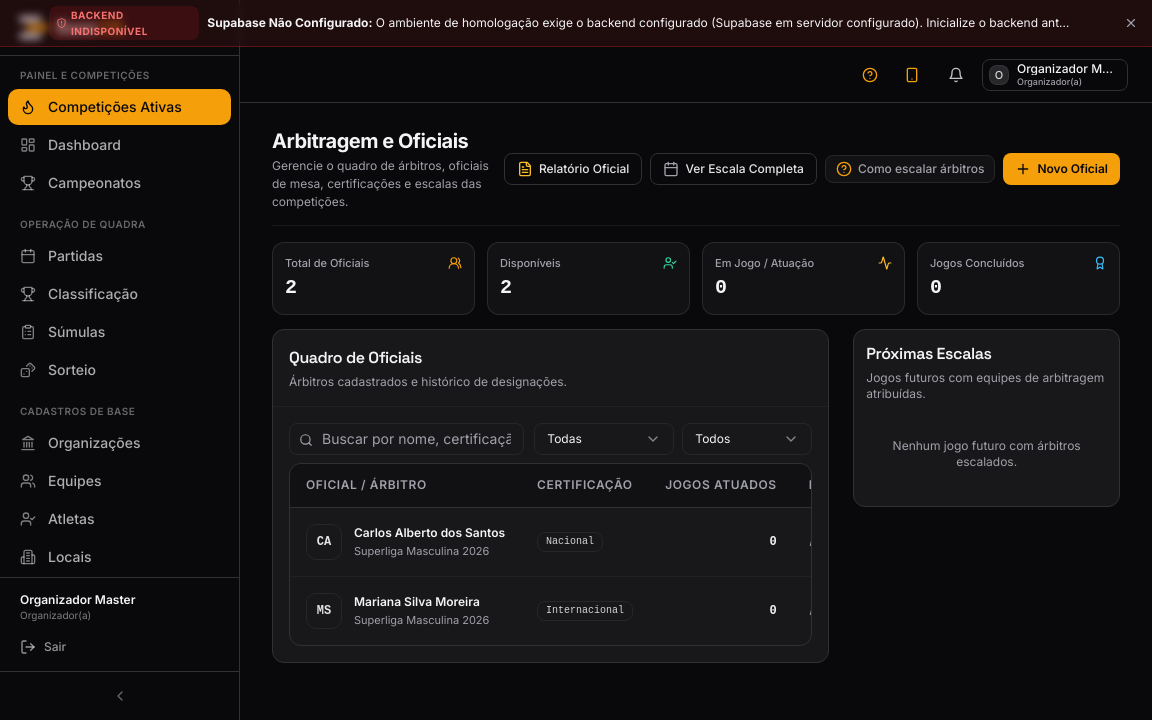
Test case: RefereesPage Component (Fase 8.2) › abre o modal de escala completa ao clicar em Ver Escala Completa
Expected: the text "Carlos Alberto dos Santos" is shown, [354, 525, 505, 541]
Click the button "Ver Escala Completa": (734, 169) [650, 153, 817, 185]
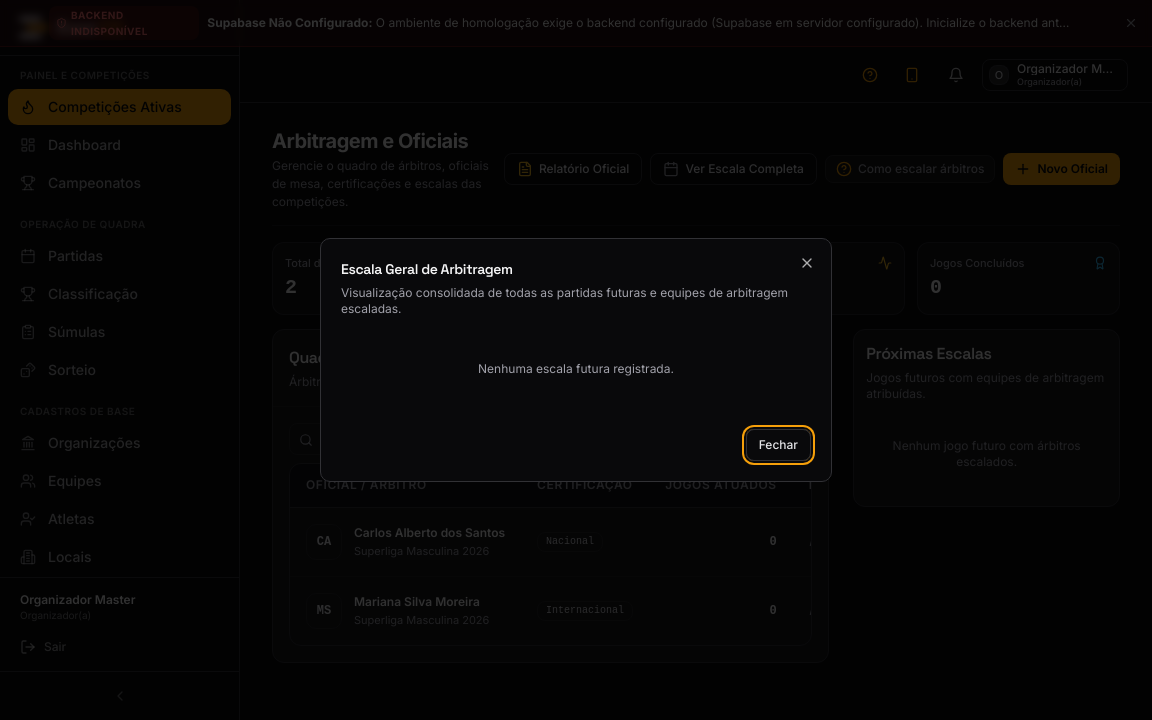
Expected: the heading "Escala Geral de Arbitragem" is shown, [341, 260, 513, 278]
